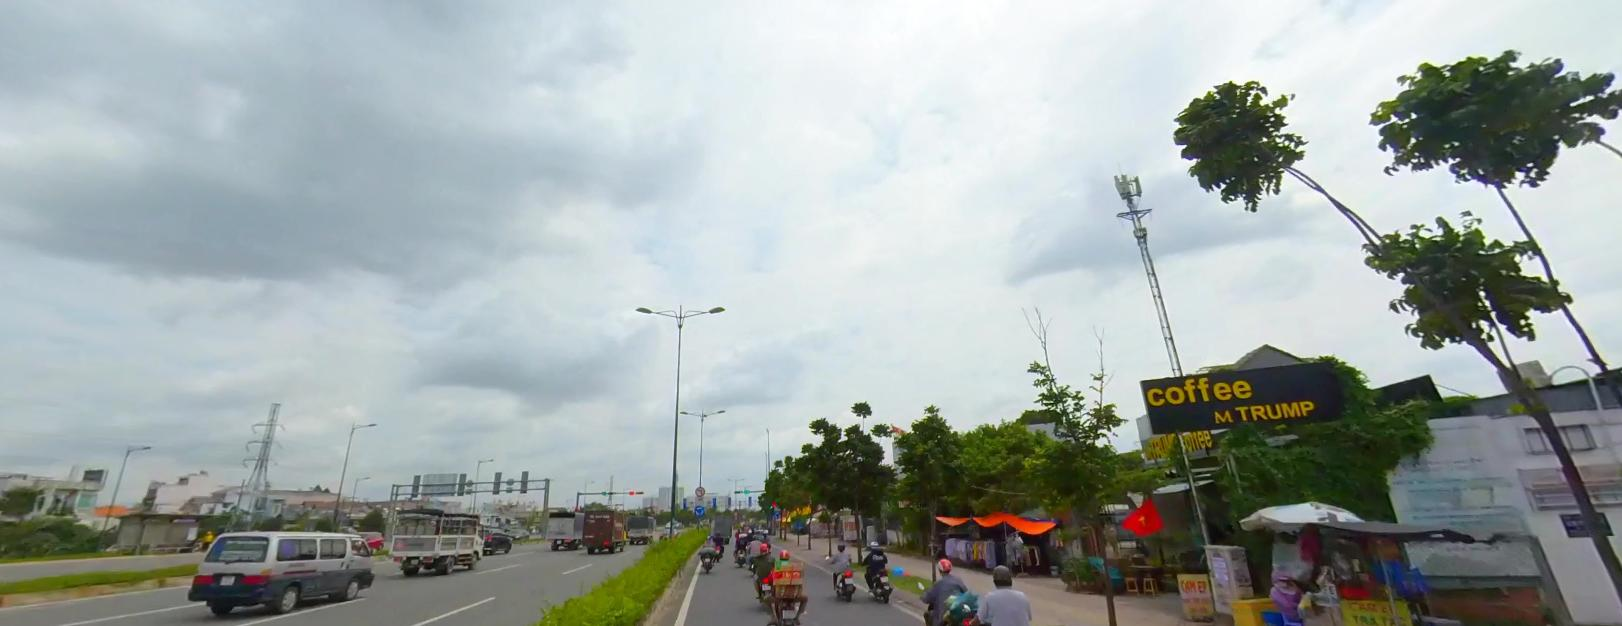Cam re: (694, 485, 704, 495)
Hieu lenh: (693, 504, 703, 515)
